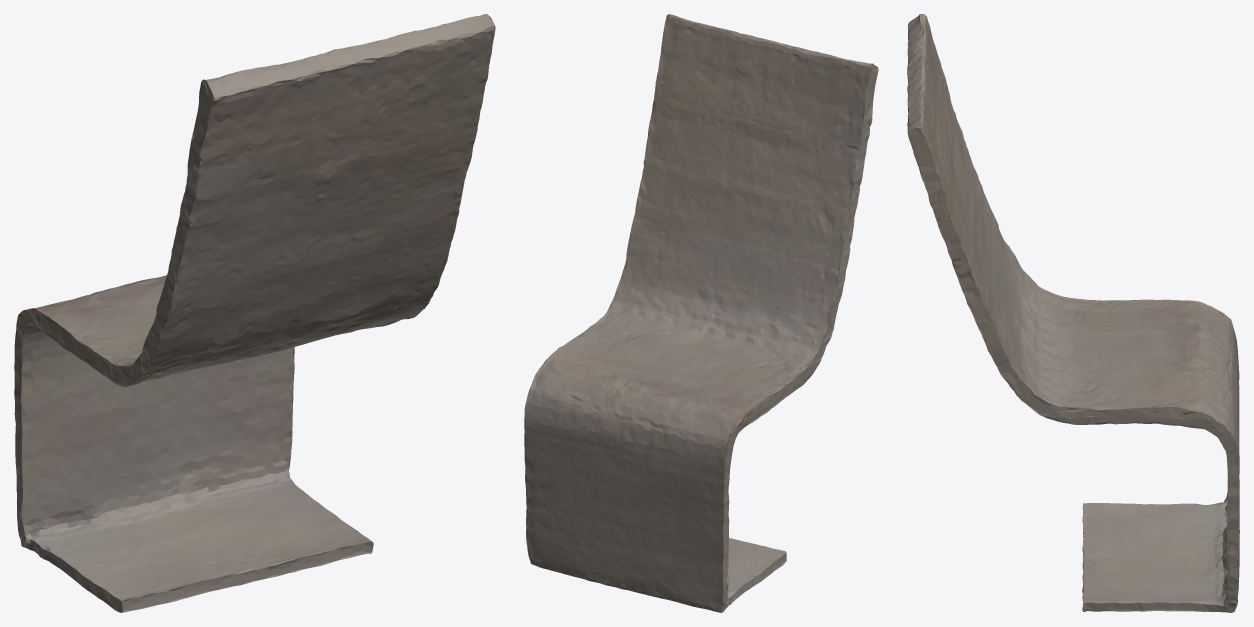
The picture shows the model from 3 angles, left to right: view 1: azimuth 30°, elevation 25°; view 2: azimuth 150°, elevation 25°; view 3: azimuth 270°, elevation 25°; orthographic projection. The views are drawn at different scales.
Parts seen in each view (by area): view 1: defaultobject; view 2: defaultobject; view 3: defaultobject.
Boxes of the visible parts, x1,y1,x2,y2 form: defaultobject: (14, 14, 495, 612); defaultobject: (524, 14, 878, 612); defaultobject: (907, 14, 1239, 612).
Bounding box in the file's own units: 0.3935 × 0.8044 × 0.4914.
